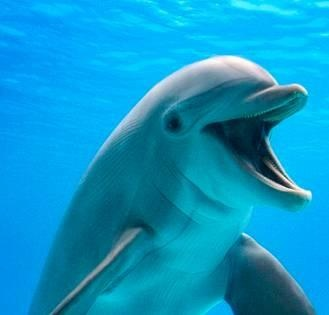fish: (22, 53, 311, 312)
